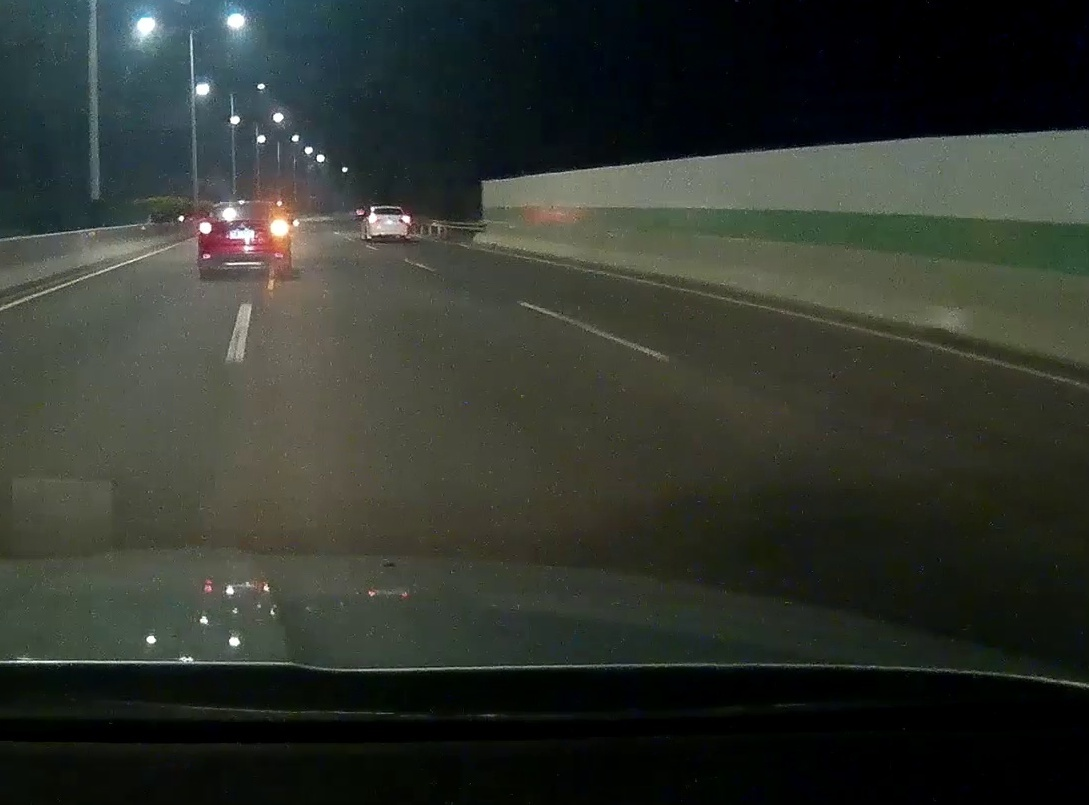L_light: (199, 224, 213, 233), (369, 215, 377, 220)
R_light: (272, 224, 287, 234), (402, 216, 409, 221)
T_light: (237, 204, 251, 208), (384, 208, 392, 211)
night-no: (367, 205, 411, 242)
night-right: (196, 200, 290, 276)
